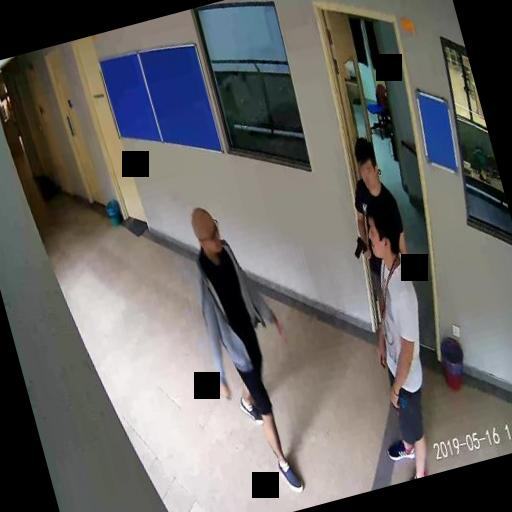Handgun: (350, 234, 370, 262)
